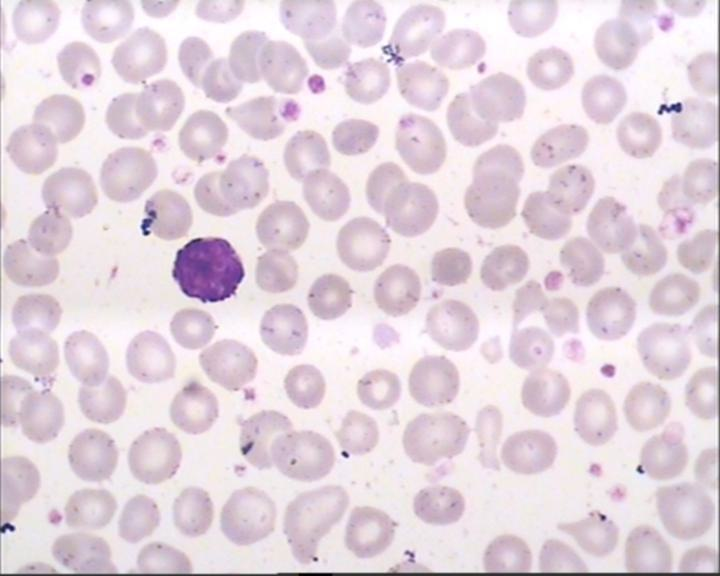baso: (167, 231, 248, 307)
